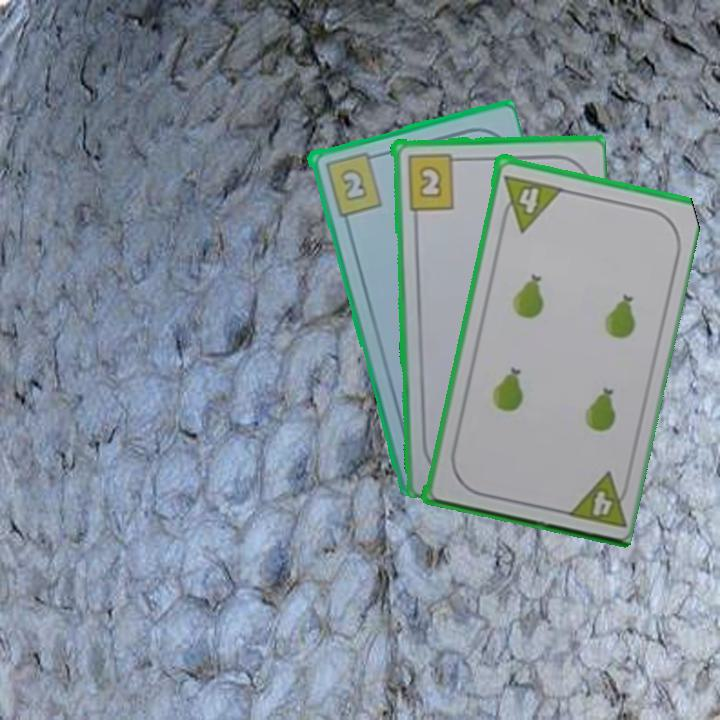2b: (321, 148, 385, 219), (403, 149, 464, 212)
4p: (561, 467, 633, 531), (496, 170, 564, 233)
